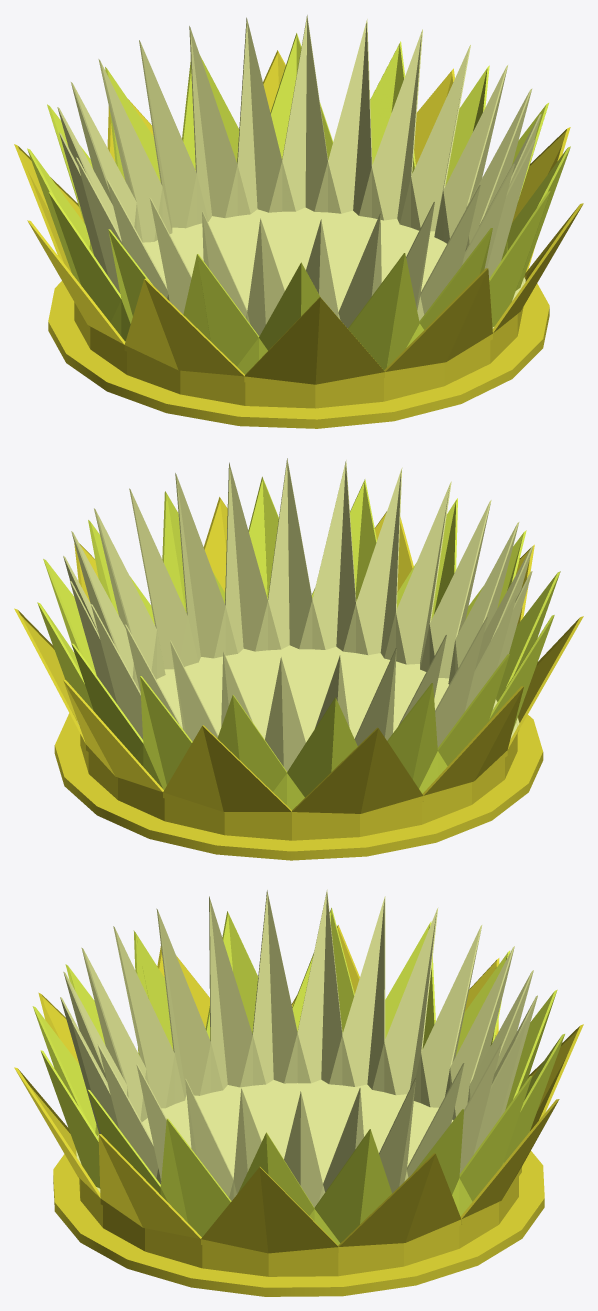
Rendered from portal_000034.obj.
3 renders of one model, top to bottom at view 1: azimuth 30°, elevation 25°; view 2: azimuth 150°, elevation 25°; view 3: azimuth 270°, elevation 25°, orthographic. The views are drawn at different scales.
Visible parts, largest first — view 1: Cylinder.001, pCylinder1, Cylinder; view 2: Cylinder.001, pCylinder1, Cylinder; view 3: Cylinder.001, pCylinder1, Cylinder.
Boxes of the visible parts, x1=… form: Cylinder.001: x1=57, y1=15, x2=541, y2=336; pCylinder1: x1=14, y1=50, x2=583, y2=428; Cylinder: x1=27, y1=33, x2=570, y2=374; Cylinder.001: x1=63, y1=458, x2=533, y2=771; pCylinder1: x1=14, y1=497, x2=583, y2=860; Cylinder: x1=37, y1=476, x2=560, y2=809; Cylinder.001: x1=60, y1=889, x2=537, y2=1207; pCylinder1: x1=14, y1=925, x2=583, y2=1296; Cylinder: x1=32, y1=907, x2=564, y2=1245.
Bounding box in the file's own units: 7.38 × 2.9 × 7.33.
3 materials, 3 textured.
